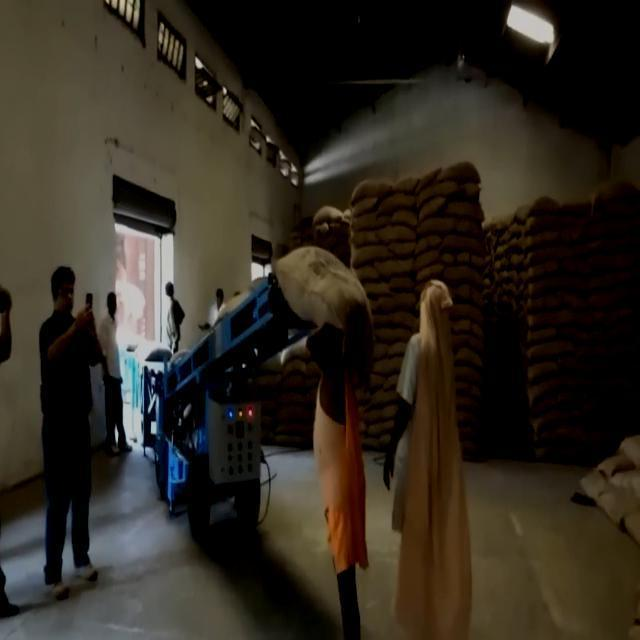gunny_bag: (271, 247, 374, 391), (528, 374, 579, 406), (528, 408, 586, 436), (524, 333, 578, 363), (591, 180, 638, 214), (583, 283, 637, 311), (215, 288, 257, 324), (578, 424, 631, 452), (524, 208, 574, 235), (370, 254, 418, 282), (520, 244, 575, 268), (584, 216, 634, 242), (434, 158, 480, 186), (418, 179, 460, 209), (583, 394, 638, 416), (582, 236, 632, 260), (439, 234, 487, 257), (570, 306, 608, 334), (417, 212, 459, 237), (350, 180, 392, 203), (600, 341, 639, 364), (533, 444, 581, 462), (440, 266, 484, 285), (526, 294, 566, 314), (528, 312, 568, 332), (380, 192, 414, 215), (378, 223, 418, 242), (408, 250, 446, 269), (444, 202, 484, 220), (600, 375, 636, 395), (372, 327, 410, 345), (136, 342, 172, 360), (349, 212, 381, 232), (274, 405, 307, 424), (392, 208, 420, 228), (274, 422, 309, 436)
